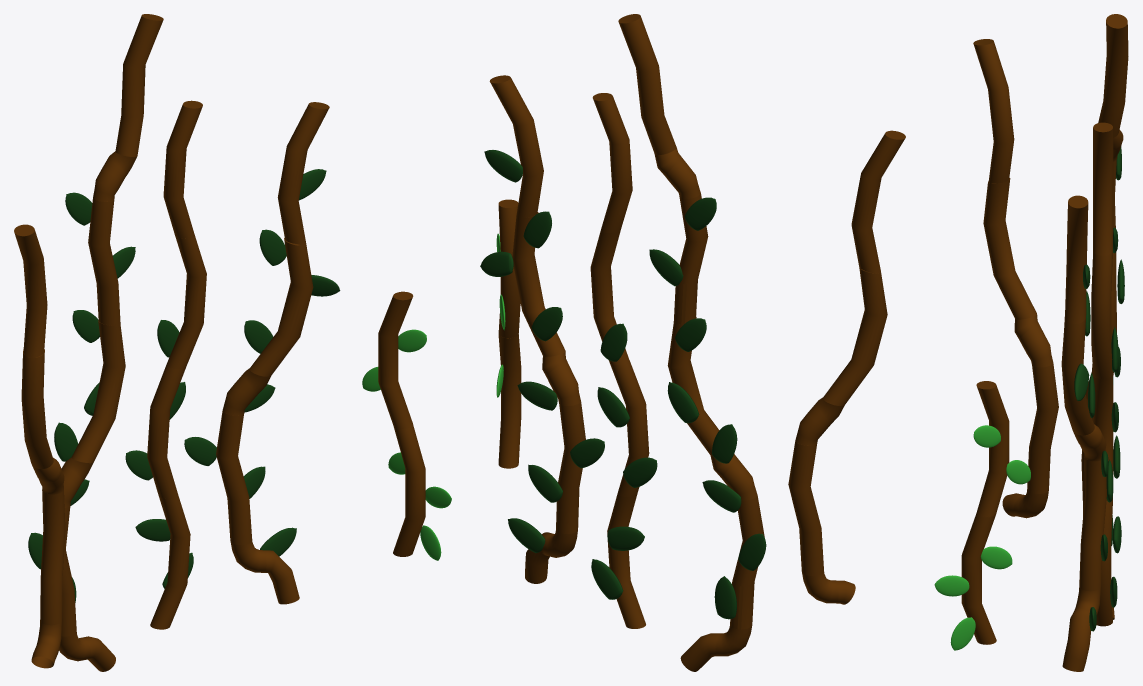
File: grassssssss.fbx
3 renders of one model, left to right at view 1: azimuth 30°, elevation 25°; view 2: azimuth 150°, elevation 25°; view 3: azimuth 270°, elevation 25°, orthographic.
Parts seen in each view (by area): view 1: pCylinder27, pCylinder26, pCylinder32, pCylinder23, pasted__pCylinder9, pSphere10, pSphere7, pSphere16, pSphere6, pSphere9, pSphere14, pSphere8; view 2: pCylinder27, pCylinder23, pCylinder26, pCylinder32, pasted__pCylinder9, pSphere11, pSphere13, pSphere22, pSphere20, pSphere19, pSphere21, pSphere24 (+14 smaller); view 3: pCylinder23, pCylinder26, pasted__pCylinder9, pCylinder32, pCylinder27, pSphere26.
Boxes of the visible parts, box(x1,y1,x2,y2) form: pCylinder27: box(59, 14, 163, 671); pCylinder26: box(216, 102, 329, 604); pCylinder32: box(147, 100, 206, 629); pCylinder23: box(14, 224, 65, 668); pasted__pCylinder9: box(362, 291, 451, 560); pSphere10: box(259, 229, 286, 265); pSphere7: box(184, 437, 216, 465); pSphere16: box(72, 310, 99, 342); pSphere6: box(54, 422, 77, 461); pSphere9: box(65, 192, 92, 225); pSphere14: box(244, 320, 273, 353); pSphere8: box(135, 519, 170, 541); pCylinder27: box(618, 14, 764, 671); pCylinder23: box(788, 130, 905, 604); pCylinder26: box(489, 75, 585, 583); pCylinder32: box(590, 93, 649, 628); pasted__pCylinder9: box(496, 199, 521, 468); pSphere11: box(597, 387, 629, 427); pSphere13: box(667, 382, 699, 423); pSphere22: box(591, 559, 623, 599); pSphere20: box(528, 464, 562, 502); pSphere19: box(702, 480, 741, 512); pSphere21: box(508, 518, 545, 552); pSphere24: box(484, 150, 522, 182); pCylinder23: box(973, 39, 1058, 518); pCylinder26: box(1061, 195, 1106, 671); pasted__pCylinder9: box(934, 381, 1030, 650); pCylinder32: box(1091, 122, 1113, 626); pCylinder27: box(1081, 14, 1128, 619); pSphere26: box(1074, 363, 1089, 400).
Size of the model in its own units: 949 by 1402 by 389.
